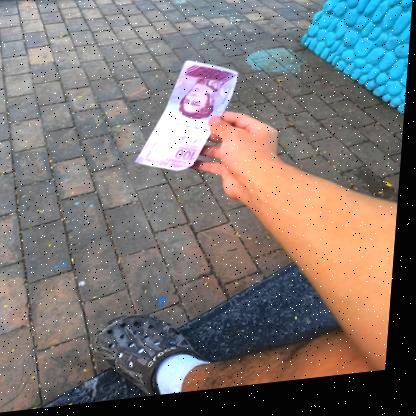one_hundred-front-vef: (136, 59, 242, 179)
